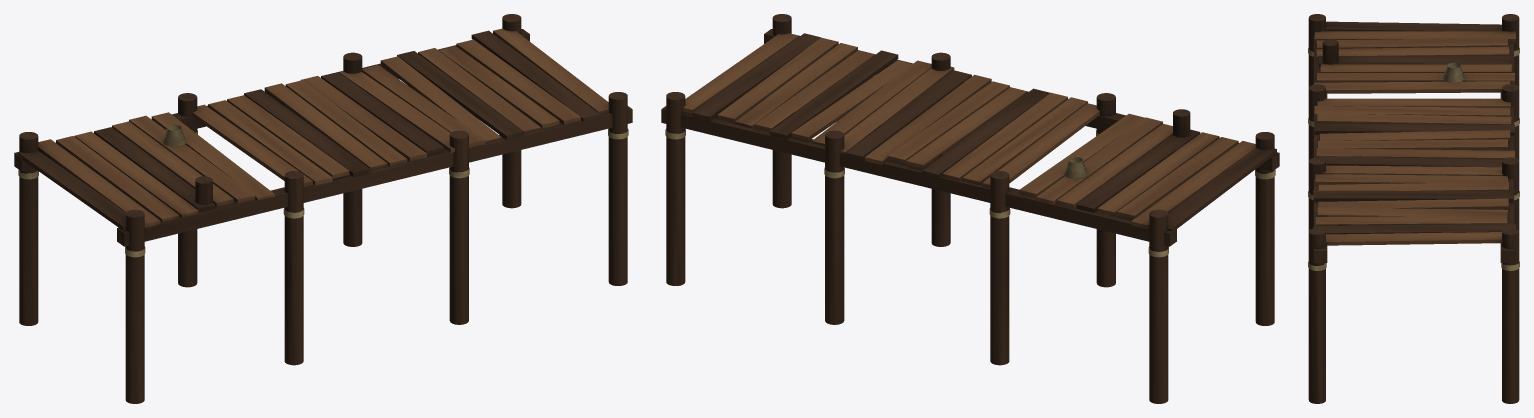
Rendered from cenario_cais.glb.
3 views of the same model, side by side, from view 1: azimuth 30°, elevation 25°; view 2: azimuth 150°, elevation 25°; view 3: azimuth 270°, elevation 25° (orthographic). The views are drawn at different scales.
Visible parts, largest first — view 1: cenario_cais; view 2: cenario_cais; view 3: cenario_cais.
Boxes of the visible parts, box(x1,y1,x2,y2) form: cenario_cais: box(14, 14, 632, 403); cenario_cais: box(661, 14, 1279, 403); cenario_cais: box(1308, 14, 1519, 403).
Size of the model in its own units: 8 by 2.94 by 3.18.
Materials: 1 (1 with a texture image).
